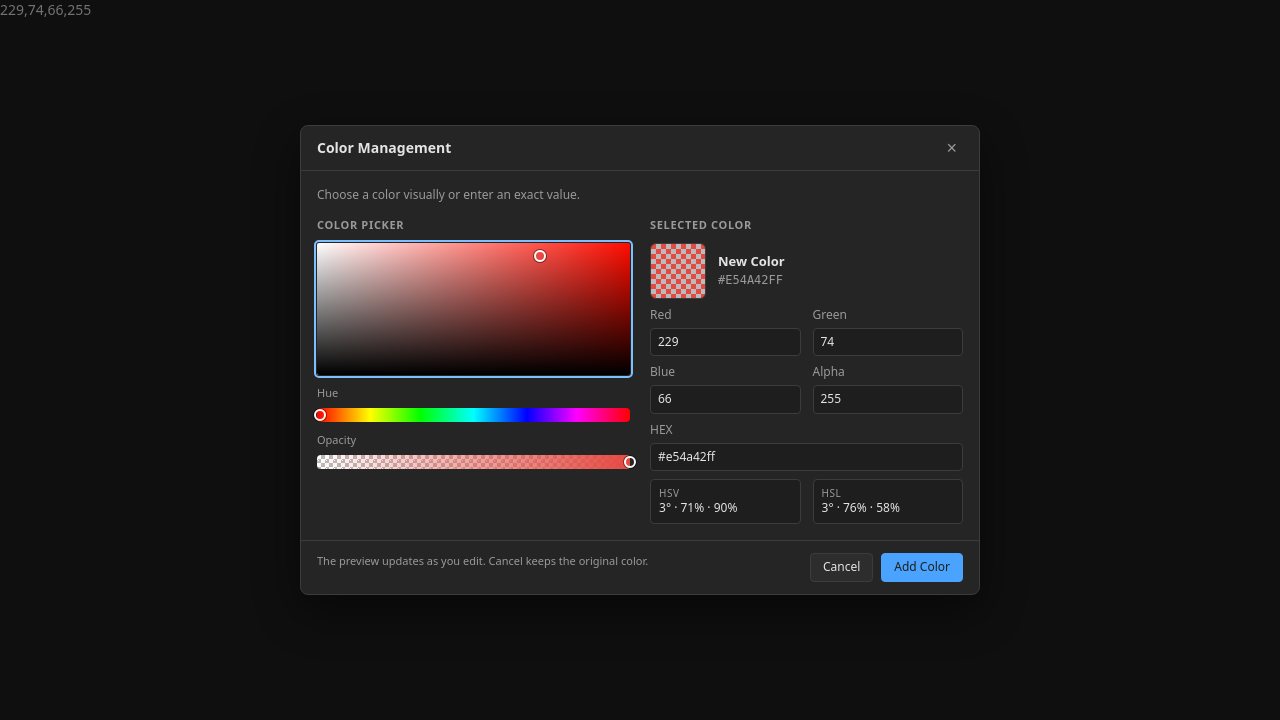
Test case: ColorManagementDialog › edits a channel and keeps hex + preview in sync
This screenshot has width=1280, height=720.
Replace the text in the number field labelled "Green" with "128" at x=888, y=342, box 812,328 -> 963,356
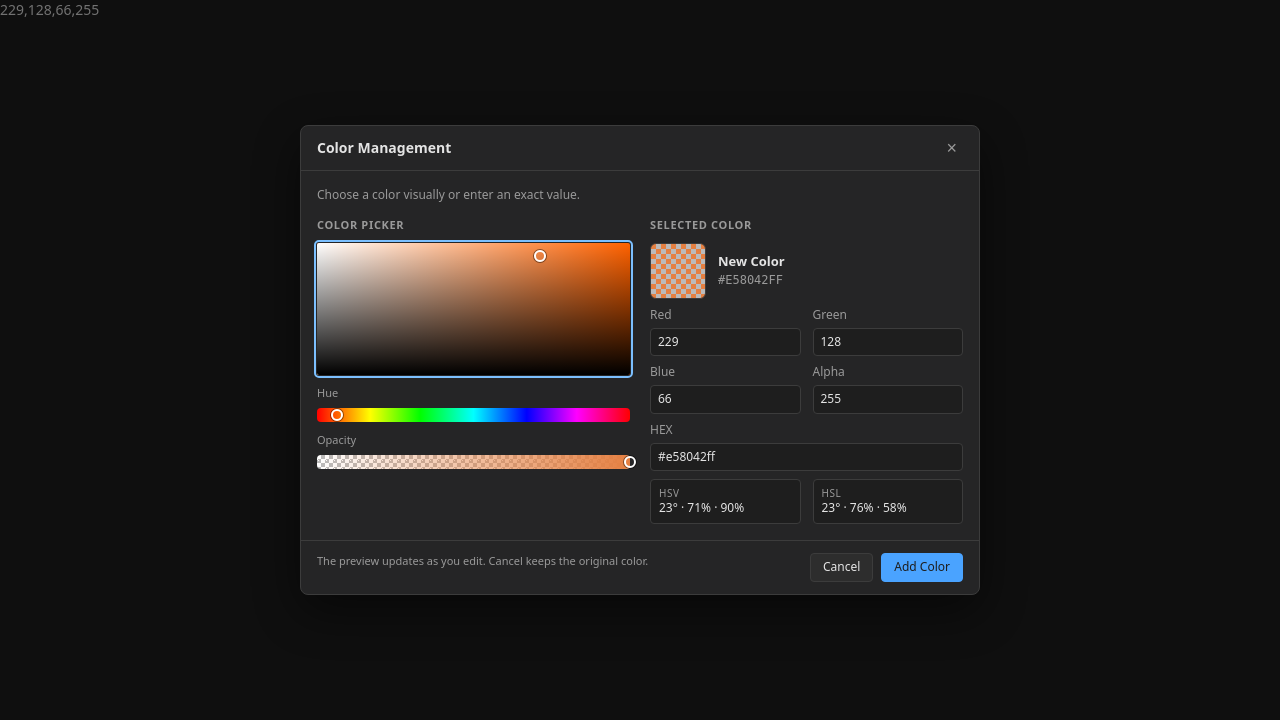
Check: the field labelled "HEX" holds "#e58042ff", box 650,443 -> 963,472
